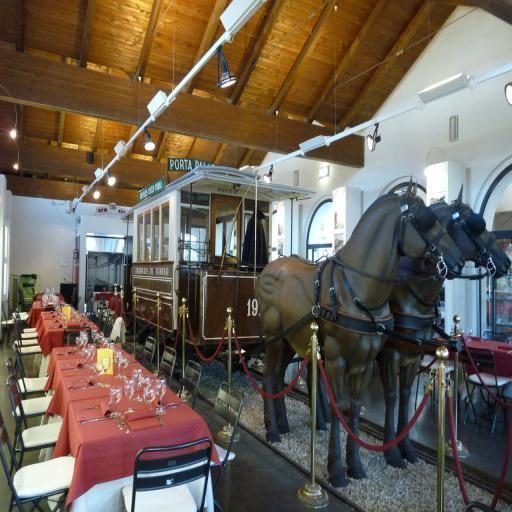horse: (254, 172, 468, 486), (306, 182, 512, 467)
